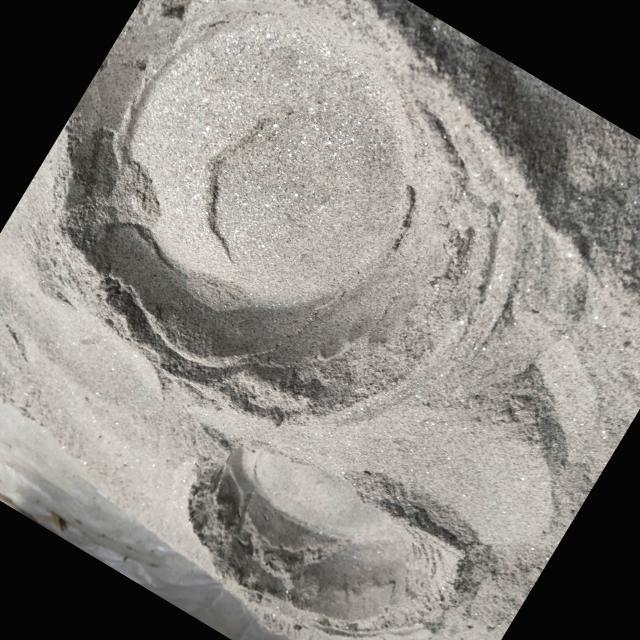C20: (61, 11, 495, 421), (206, 447, 416, 627)
